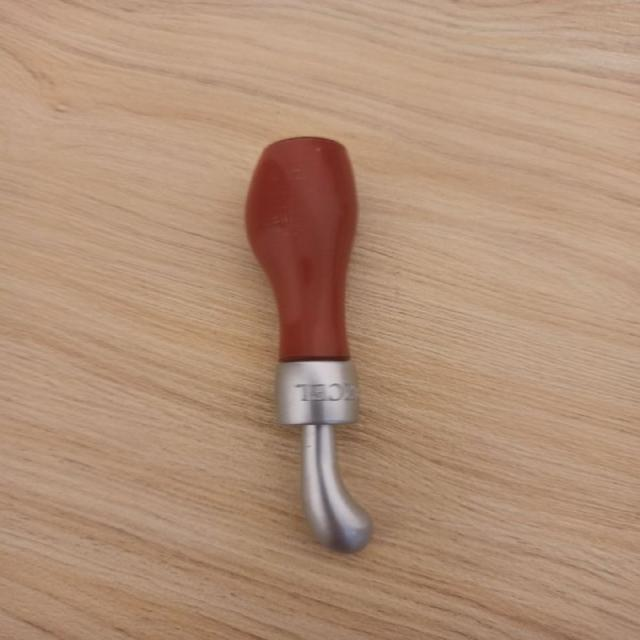lipstick: (243, 135, 373, 553)
